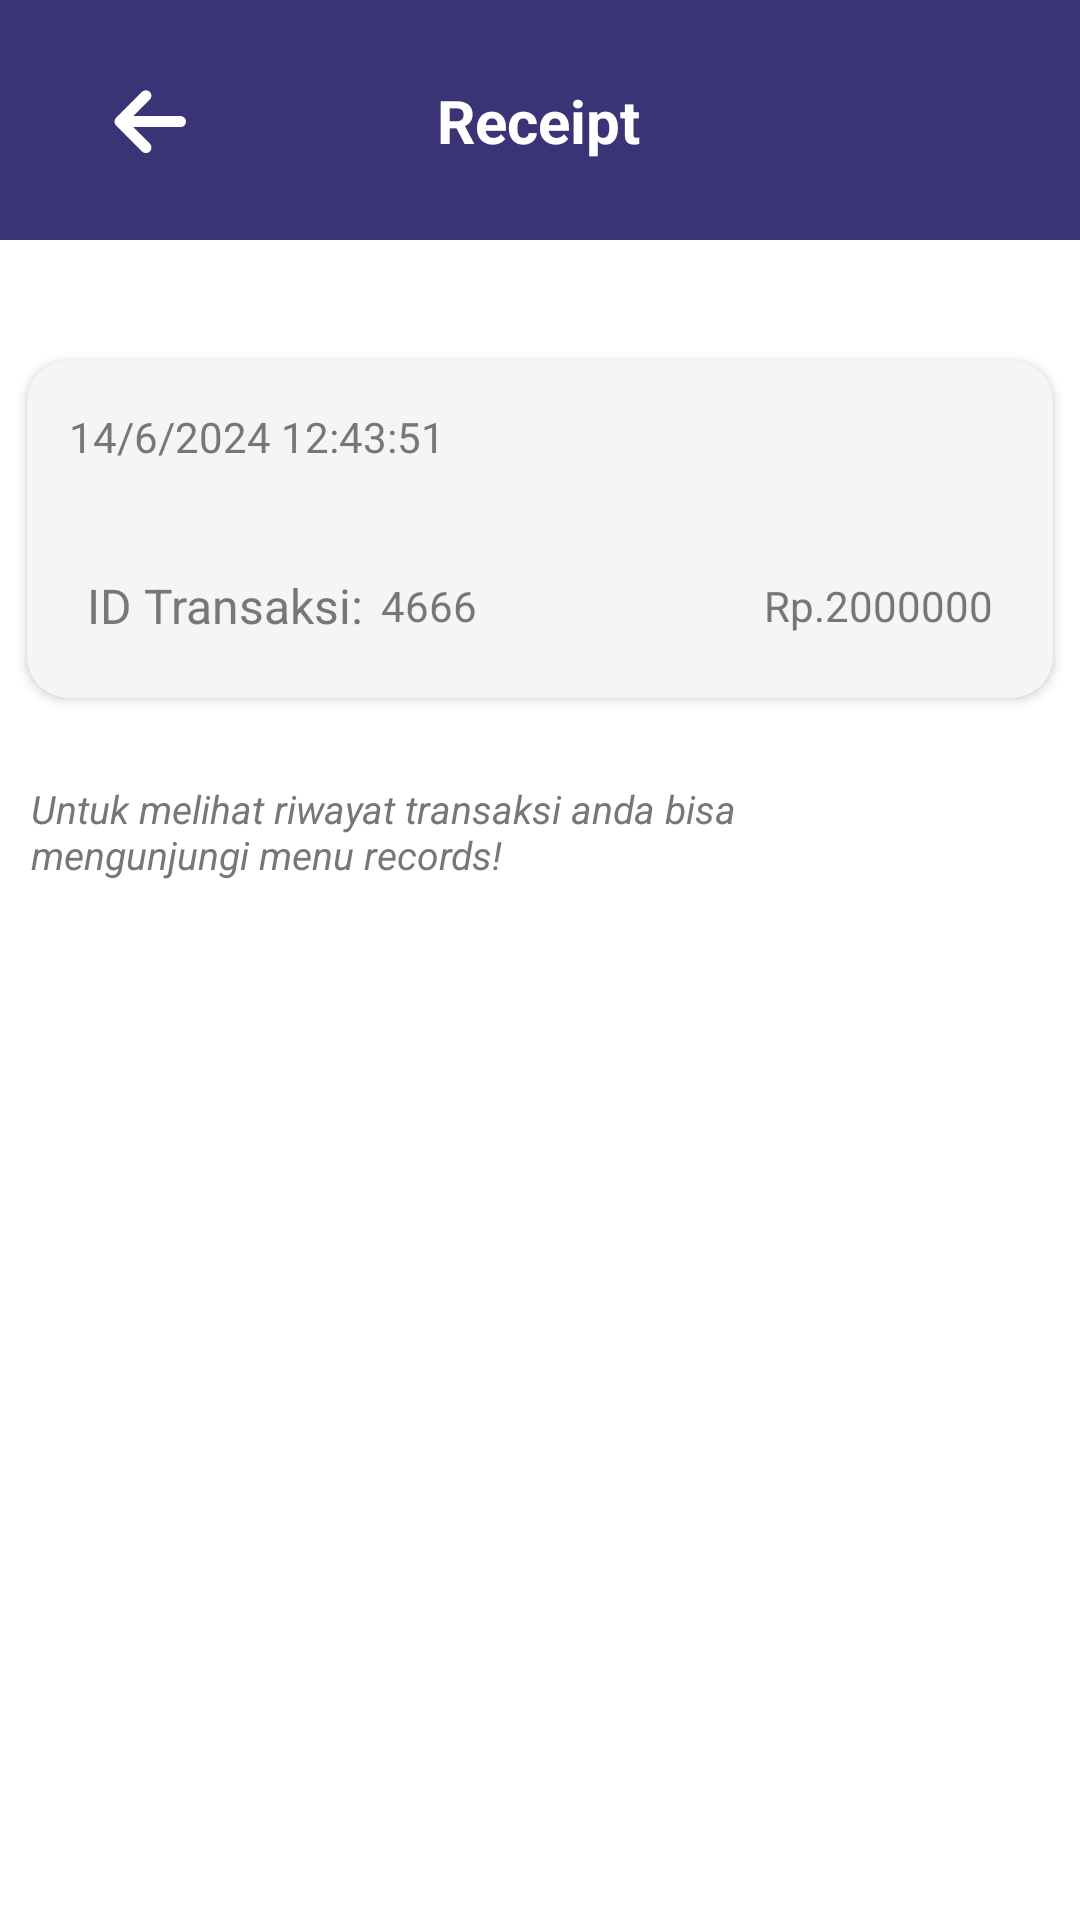

Named icons in this screenshot (1080×1920) and their centers, (x,y):
Arrow: (150,121)
